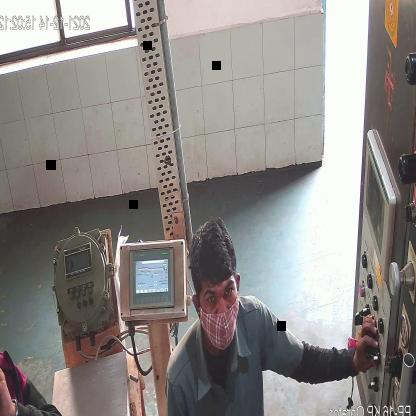no_goggles: (202, 283, 238, 311)
